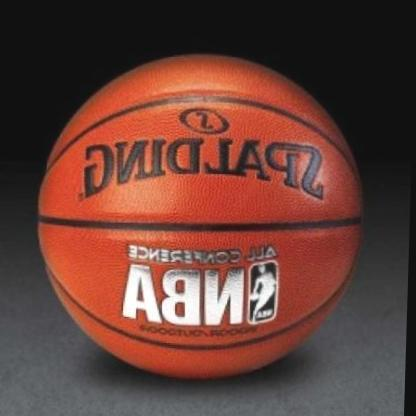basketball: (19, 36, 386, 401)
